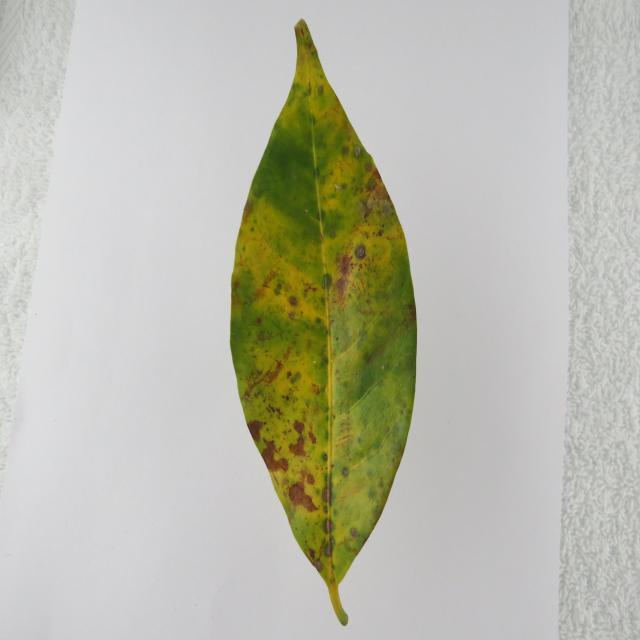DeficienciaNutricional-Nitrogeno: (231, 20, 416, 625)
